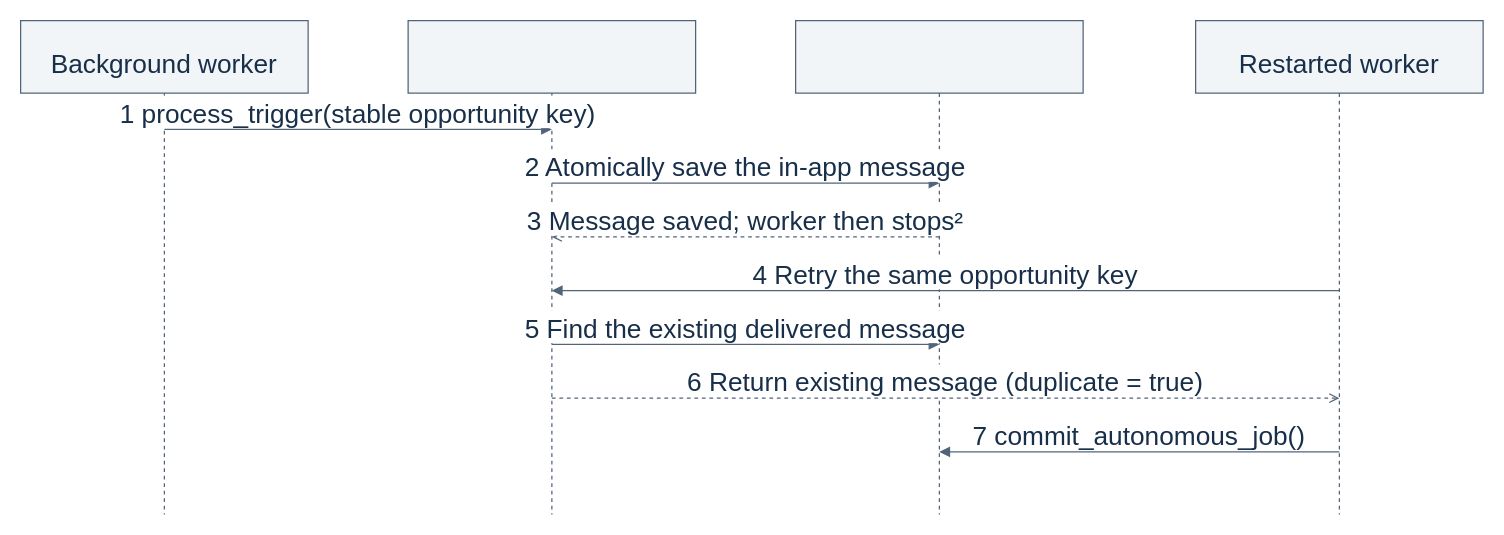
This 1504x535 diagram has some shape labels left out. Each missing label, with the box of its shape:
Outreach service: (407, 19, 696, 514)
SQLite repository: (794, 19, 1083, 514)
